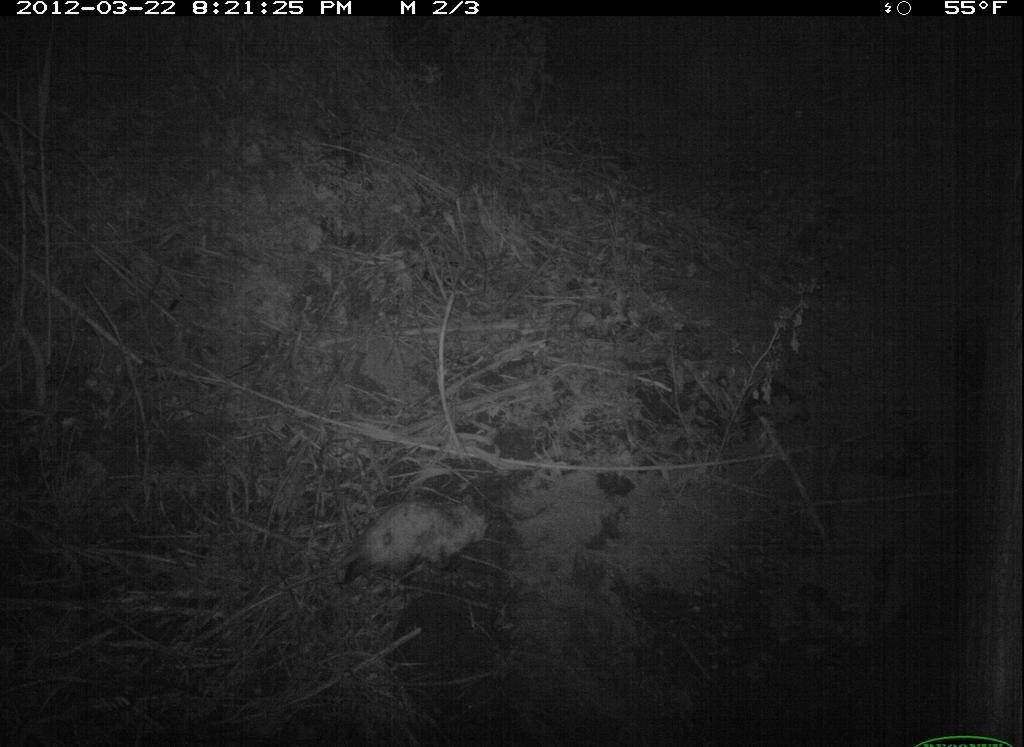opossum: (319, 469, 520, 601)
